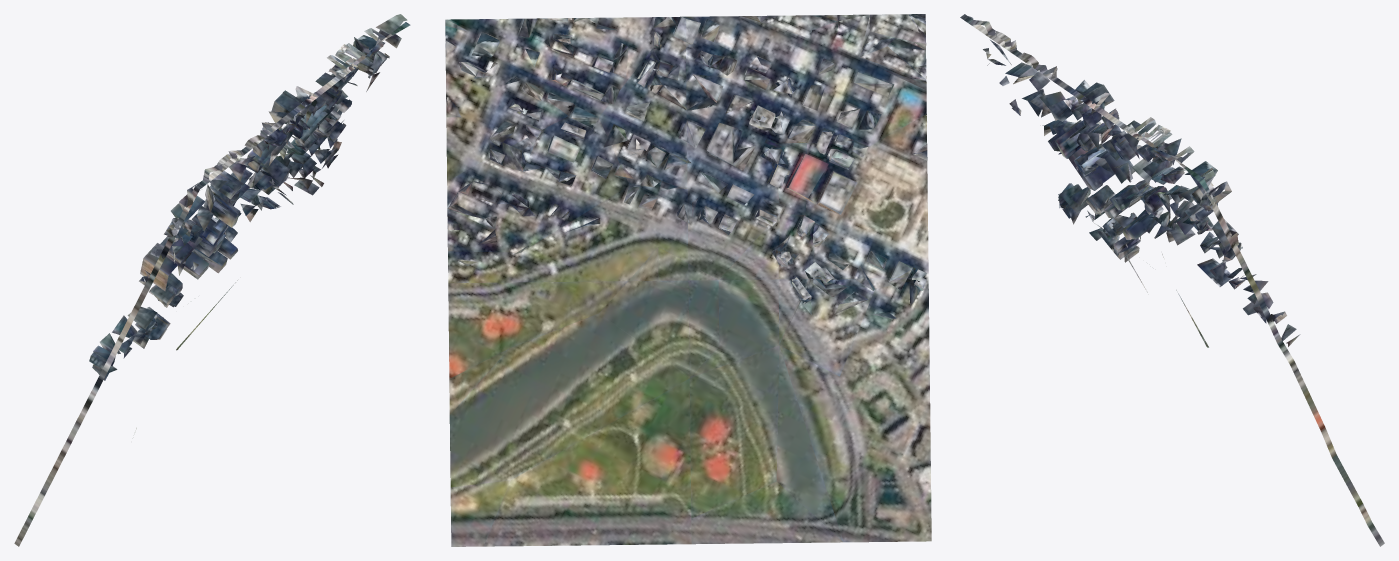
The picture shows the model from 3 angles, left to right: view 1: azimuth 30°, elevation 25°; view 2: azimuth 150°, elevation 25°; view 3: azimuth 270°, elevation 25°; orthographic projection. The views are drawn at different scales.
Bounding box in the file's own units: 1223 × 1135 × 1031.
Materials: 2 (2 with a texture image).
